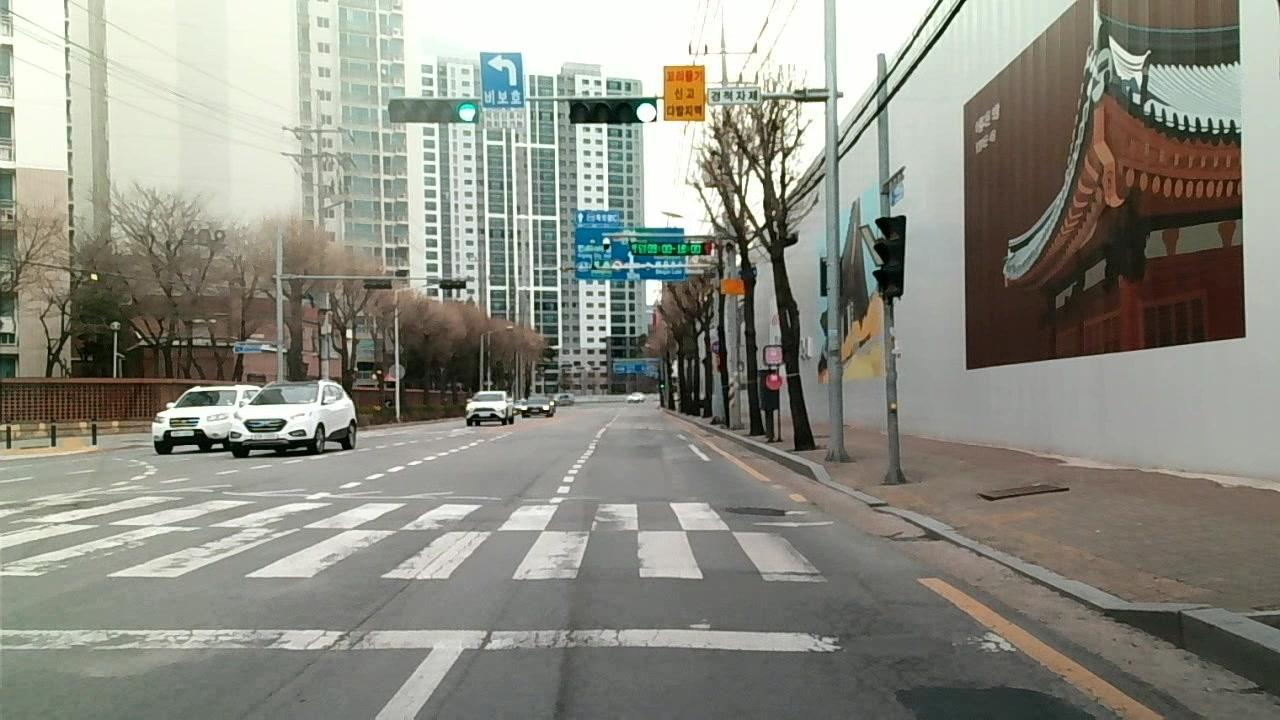banner: (250, 596, 394, 712)
